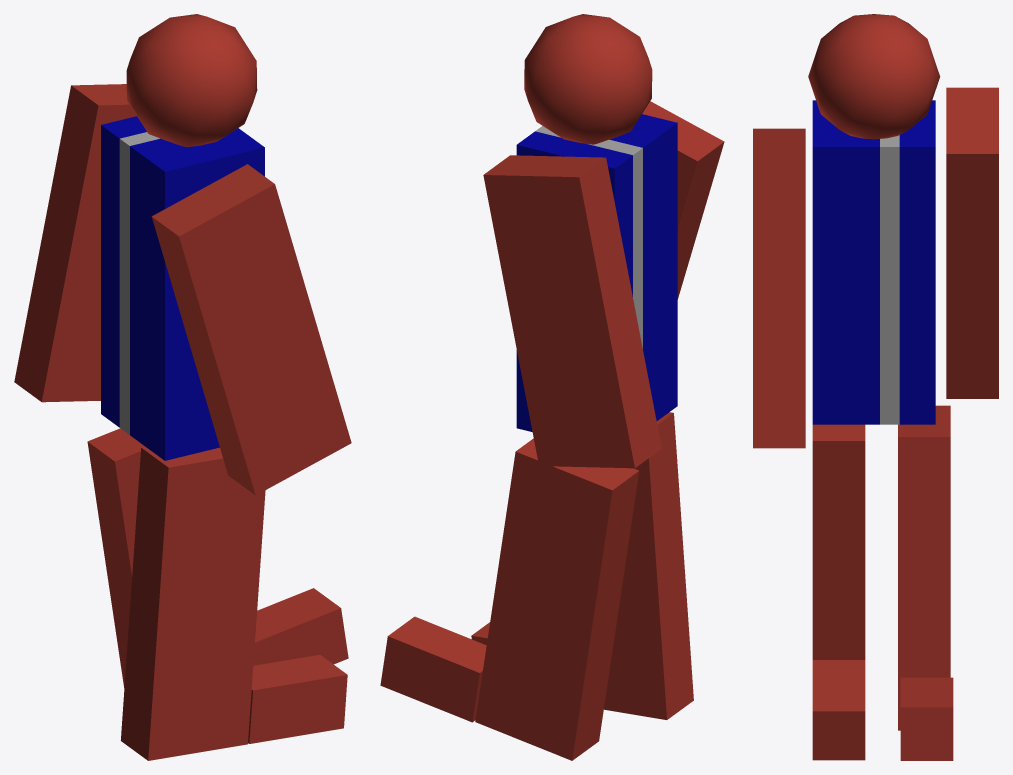
Rendered from player_000008.obj.
The picture shows the model from 3 angles, left to right: view 1: azimuth 30°, elevation 25°; view 2: azimuth 150°, elevation 25°; view 3: azimuth 270°, elevation 25°; orthographic projection. The views are drawn at different scales.
Visible parts, largest first — view 1: Cube.005, Cube.001, Cube, Cube.006, Icosphere, Cube.002, Cube.003, Cube.004; view 2: Cube.006, Cube.002, Cube.001, Cube, Icosphere, Cube.004, Cube.005; view 3: Cube, Cube.005, Cube.006, Cube.002, Icosphere, Cube.001, Cube.003, Cube.004.
Part boxes in pixels (x1=…): Cube.005: x1=151, y1=164, x2=351, y2=495; Cube.001: x1=120, y1=447, x2=265, y2=760; Cube: x1=101, y1=116, x2=264, y2=460; Cube.006: x1=14, y1=84, x2=136, y2=402; Icosphere: x1=126, y1=14, x2=257, y2=147; Cube.002: x1=87, y1=428, x2=145, y2=687; Cube.003: x1=248, y1=655, x2=347, y2=743; Cube.004: x1=253, y1=588, x2=348, y2=665; Cube.006: x1=483, y1=155, x2=661, y2=468; Cube.002: x1=475, y1=438, x2=639, y2=760; Cube.001: x1=604, y1=412, x2=693, y2=719; Cube: x1=516, y1=114, x2=677, y2=431; Icosphere: x1=524, y1=14, x2=652, y2=144; Cube.004: x1=380, y1=616, x2=486, y2=722; Cube.005: x1=642, y1=101, x2=724, y2=299; Cube: x1=812, y1=100, x2=935, y2=424; Cube.005: x1=753, y1=128, x2=805, y2=448; Cube.006: x1=946, y1=87, x2=998, y2=398; Cube.002: x1=898, y1=405, x2=950, y2=730; Icosphere: x1=808, y1=14, x2=940, y2=139; Cube.001: x1=812, y1=424, x2=865, y2=659; Cube.003: x1=812, y1=660, x2=865, y2=760; Cube.004: x1=900, y1=677, x2=953, y2=760.
Size of the model in its own units: 1.17 by 2.84 by 0.9137.
